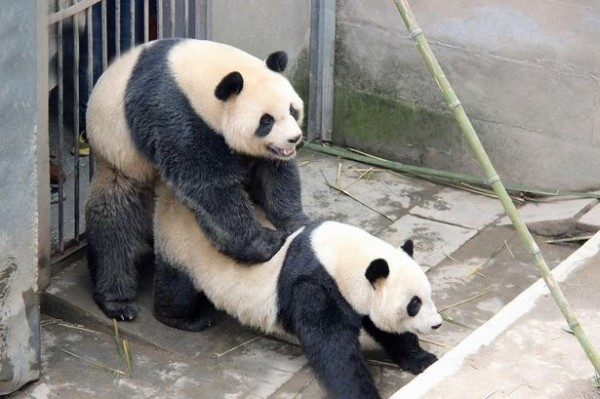panda: (142, 160, 470, 399), (75, 33, 310, 327)
